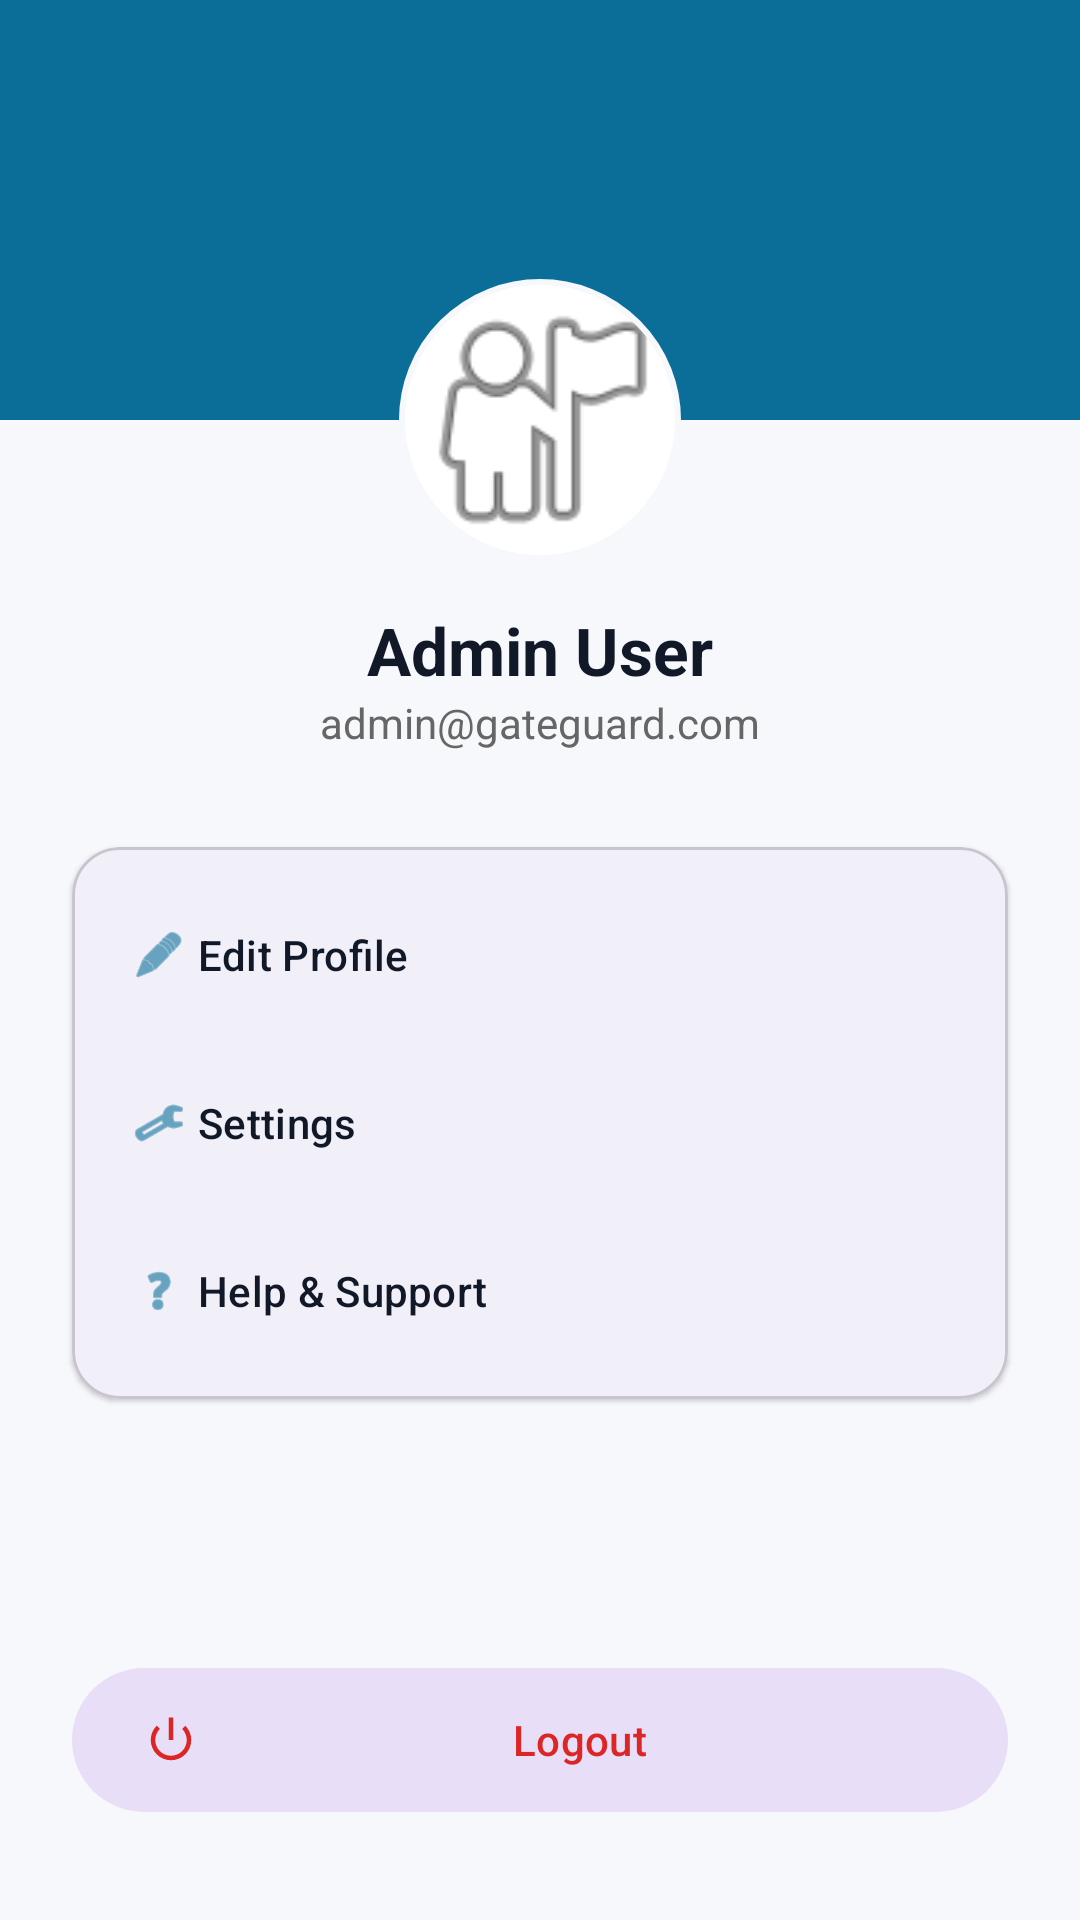

Where to tap for icons on this 1080px×1920px app screen, as point (x, y):
Profile picture: point (540, 420)
